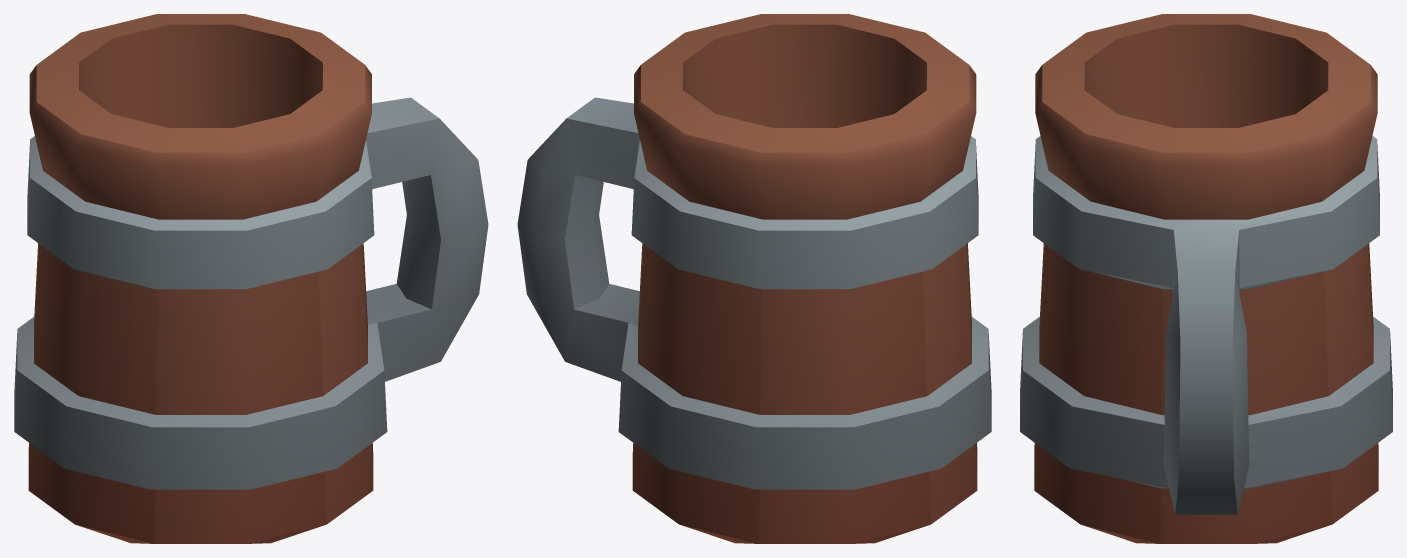
File: gear-mug-empty.glb
3 renders of one model, left to right at view 1: azimuth 30°, elevation 25°; view 2: azimuth 150°, elevation 25°; view 3: azimuth 270°, elevation 25°, orthographic.
Visible parts, largest first — view 1: mug_empty; view 2: mug_empty; view 3: mug_empty.
Boxes of the visible parts, <box> form: mug_empty: <box>14,14,488,543</box>; mug_empty: <box>517,14,991,543</box>; mug_empty: <box>1020,14,1392,543</box>.
Bounding box in the file's own units: 0.5342 × 0.4867 × 0.396.
